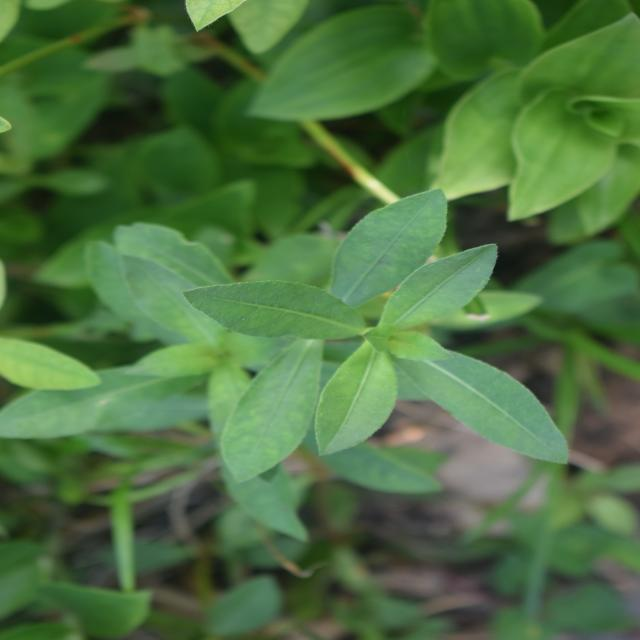Alligatorweed: (159, 156, 434, 571)
